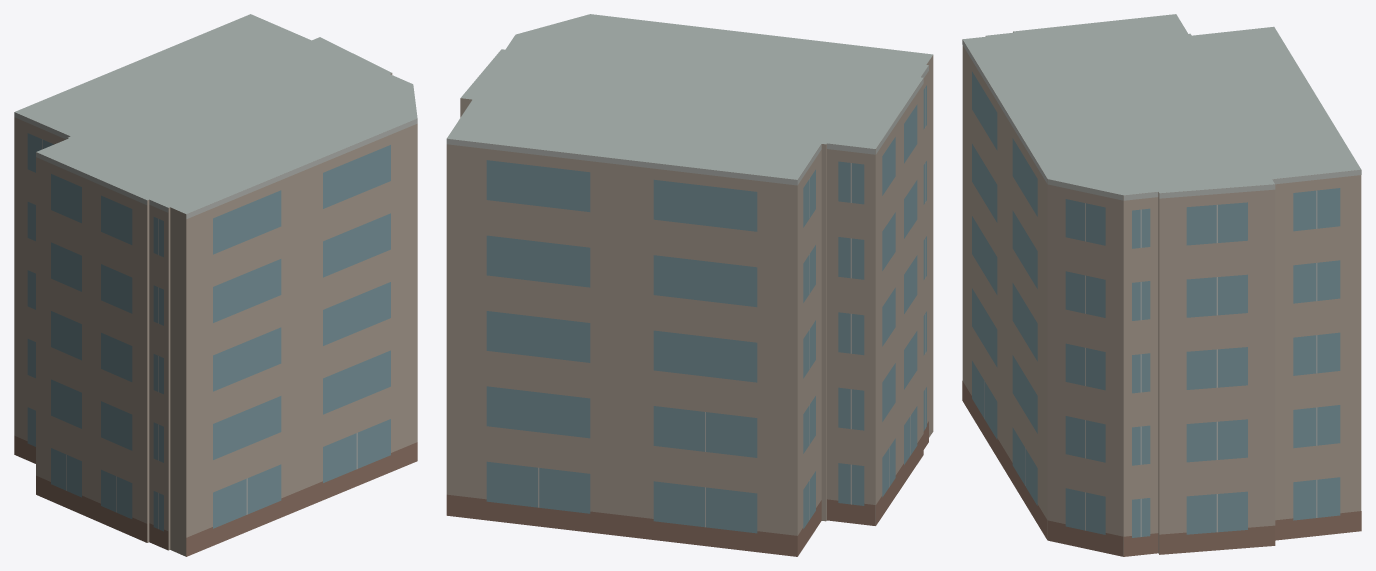
The model's file is survey-upis-32911864.glb.
The picture shows the model from 3 angles, left to right: view 1: azimuth 30°, elevation 25°; view 2: azimuth 150°, elevation 25°; view 3: azimuth 270°, elevation 25°; orthographic projection. The views are drawn at different scales.
Parts seen in each view (by area): view 1: survey-upis-32911864.tmp; view 2: survey-upis-32911864.tmp; view 3: survey-upis-32911864.tmp.
Boxes of the visible parts, x1,y1,x2,y2 form: survey-upis-32911864.tmp: [14, 14, 417, 556]; survey-upis-32911864.tmp: [446, 14, 933, 556]; survey-upis-32911864.tmp: [962, 14, 1361, 556].
Size of the model in its own units: 17.74 by 16.48 by 16.5.
